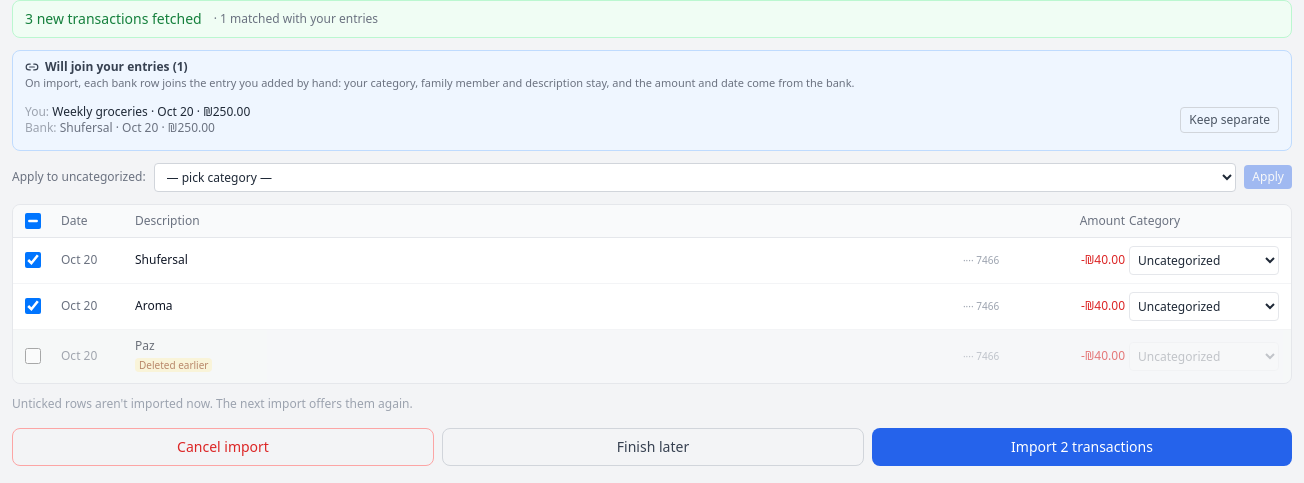
Test case: ImportReviewStep with rows in the holding area › cannot import nothing
Expected: the button "Import 2 transactions" is shown, x1=872 y1=428 x2=1292 y2=466
Click the 1st checkbox at (33, 220), box x1=25 y1=212 x2=41 y2=228
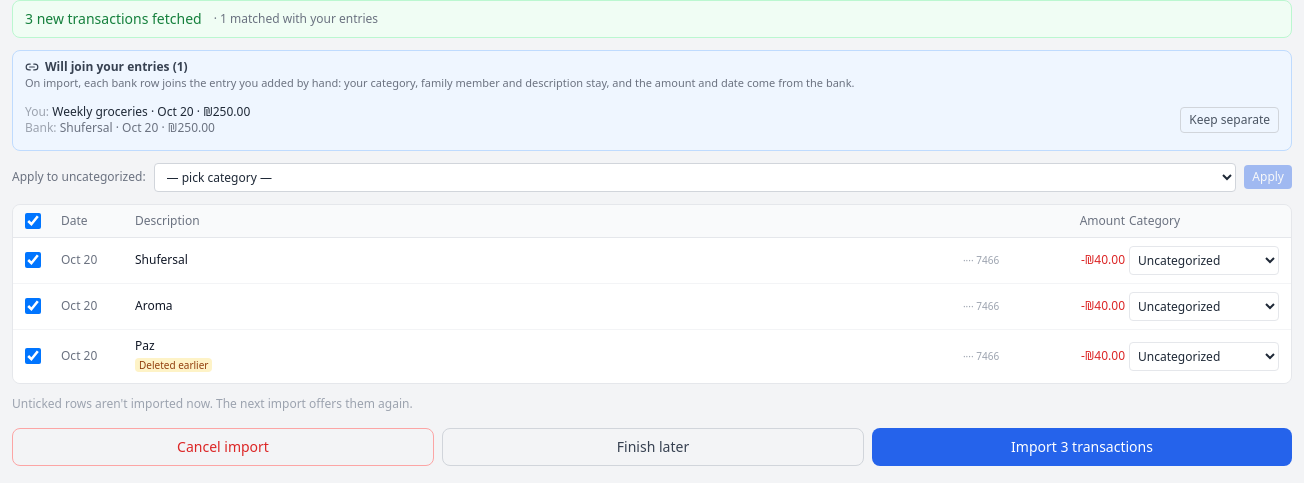
Click the 1st checkbox at (33, 220), box x1=25 y1=212 x2=41 y2=228
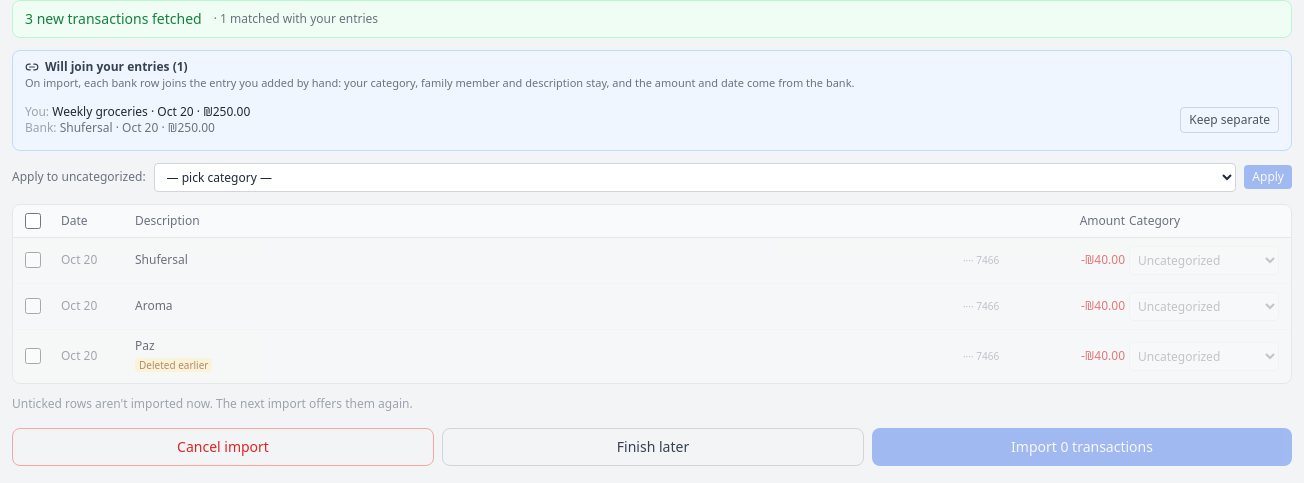
Now the button "Import 0 transactions" is disabled, box x1=872 y1=428 x2=1292 y2=466
